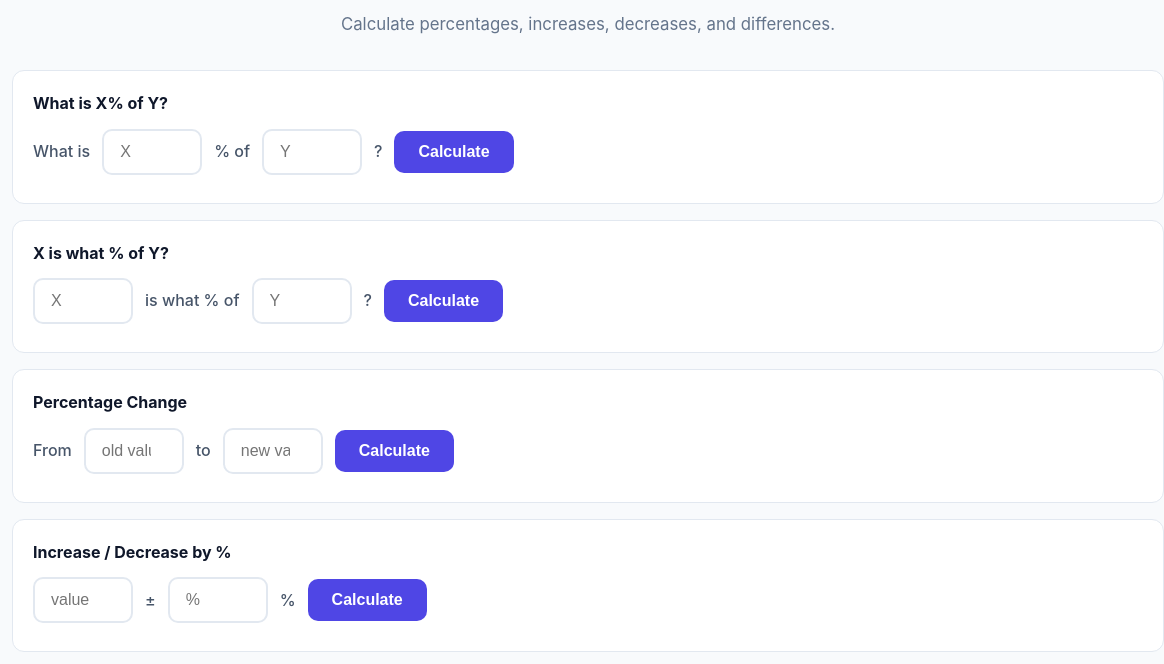
Test: PercentageCalculator › calculates increase/decrease by percent
Type "100" into the number field with placeholder "value".
click(83, 600); type("100")  # box [33,577,133,623]
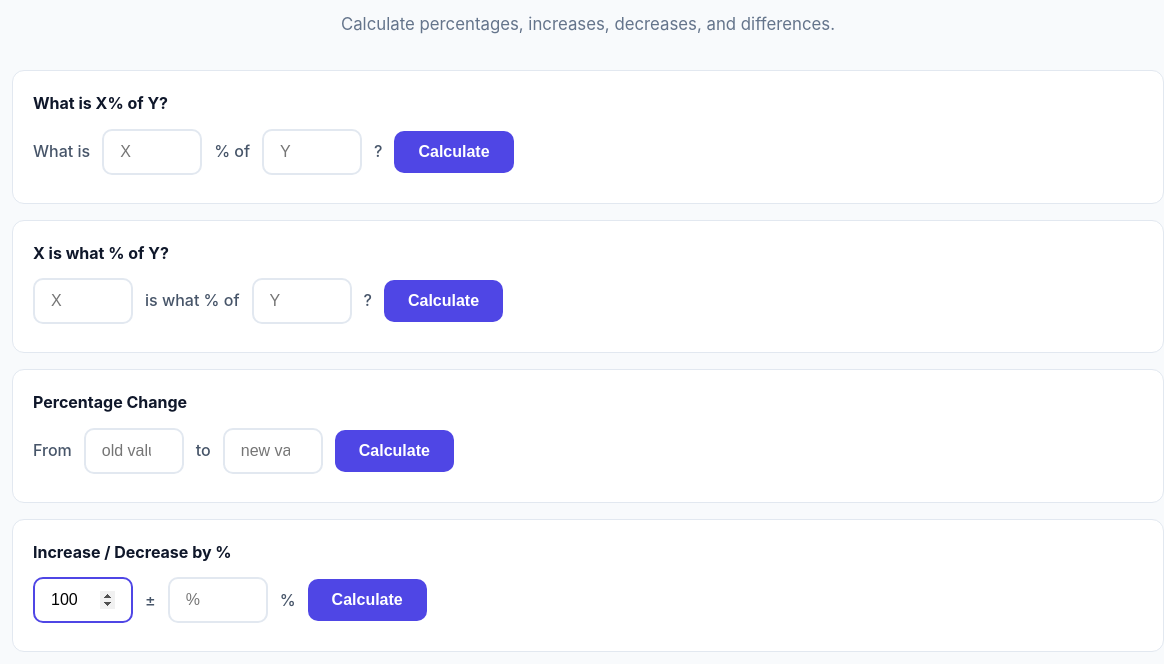
Type "10" into the number field with placeholder "%".
click(218, 600); type("10")  # box [168,577,268,623]
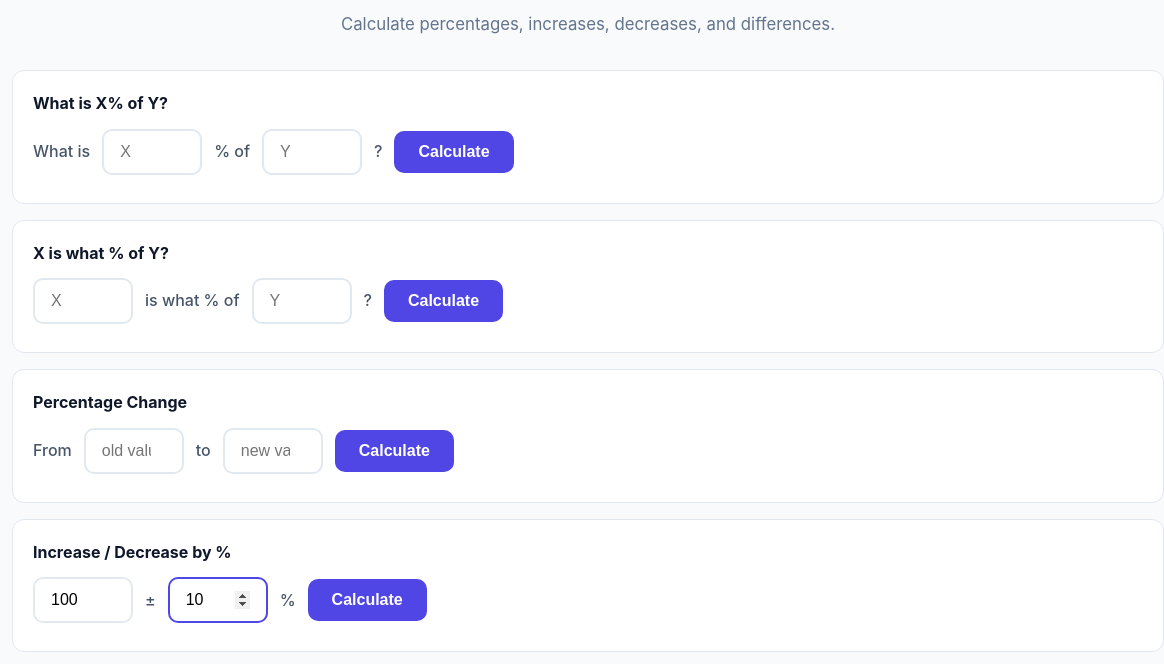
Click the button "Calculate" below "Increase / Decrease by %".
click(367, 600)  # box [308,579,427,621]
(page scrolled)
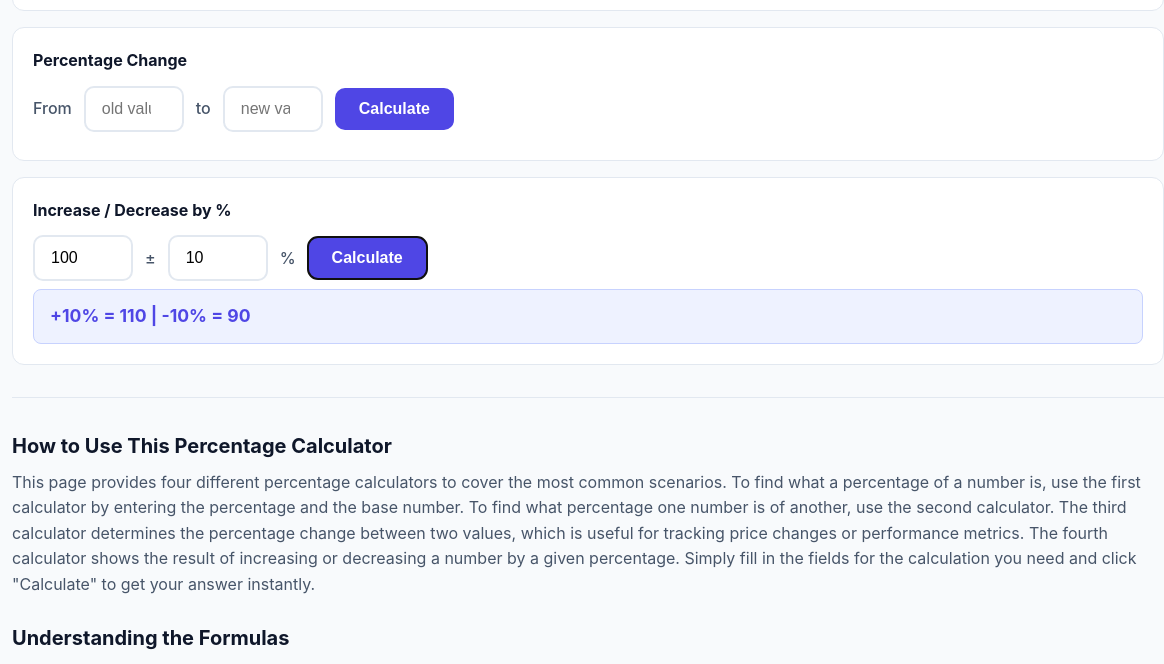
Expected: the text "+10% = 110 | -10% = 90" is shown, [33,289,1143,344]
